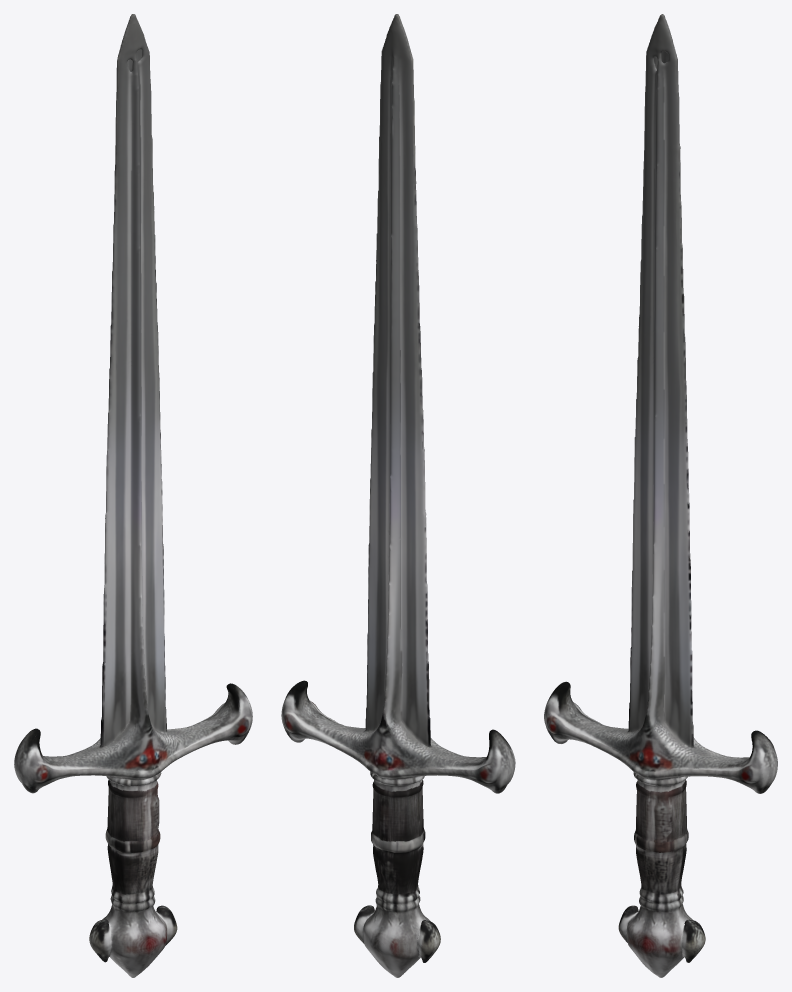
File: sword.glb
The picture shows the model from 3 angles, left to right: view 1: azimuth 30°, elevation 25°; view 2: azimuth 150°, elevation 25°; view 3: azimuth 330°, elevation 25°; orthographic projection.
Bounding box in the file's own units: 0.2208 × 0.881 × 0.0604.
Materials: 1 (1 with a texture image).
